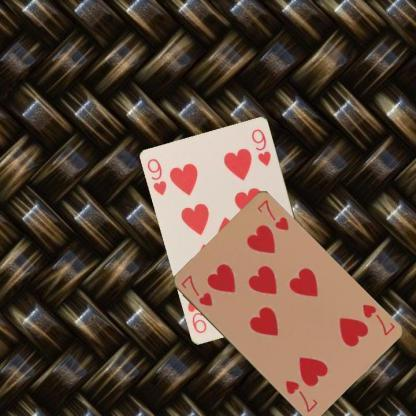7h: (359, 302, 396, 338), (178, 272, 214, 308)
9h: (145, 156, 168, 197)
